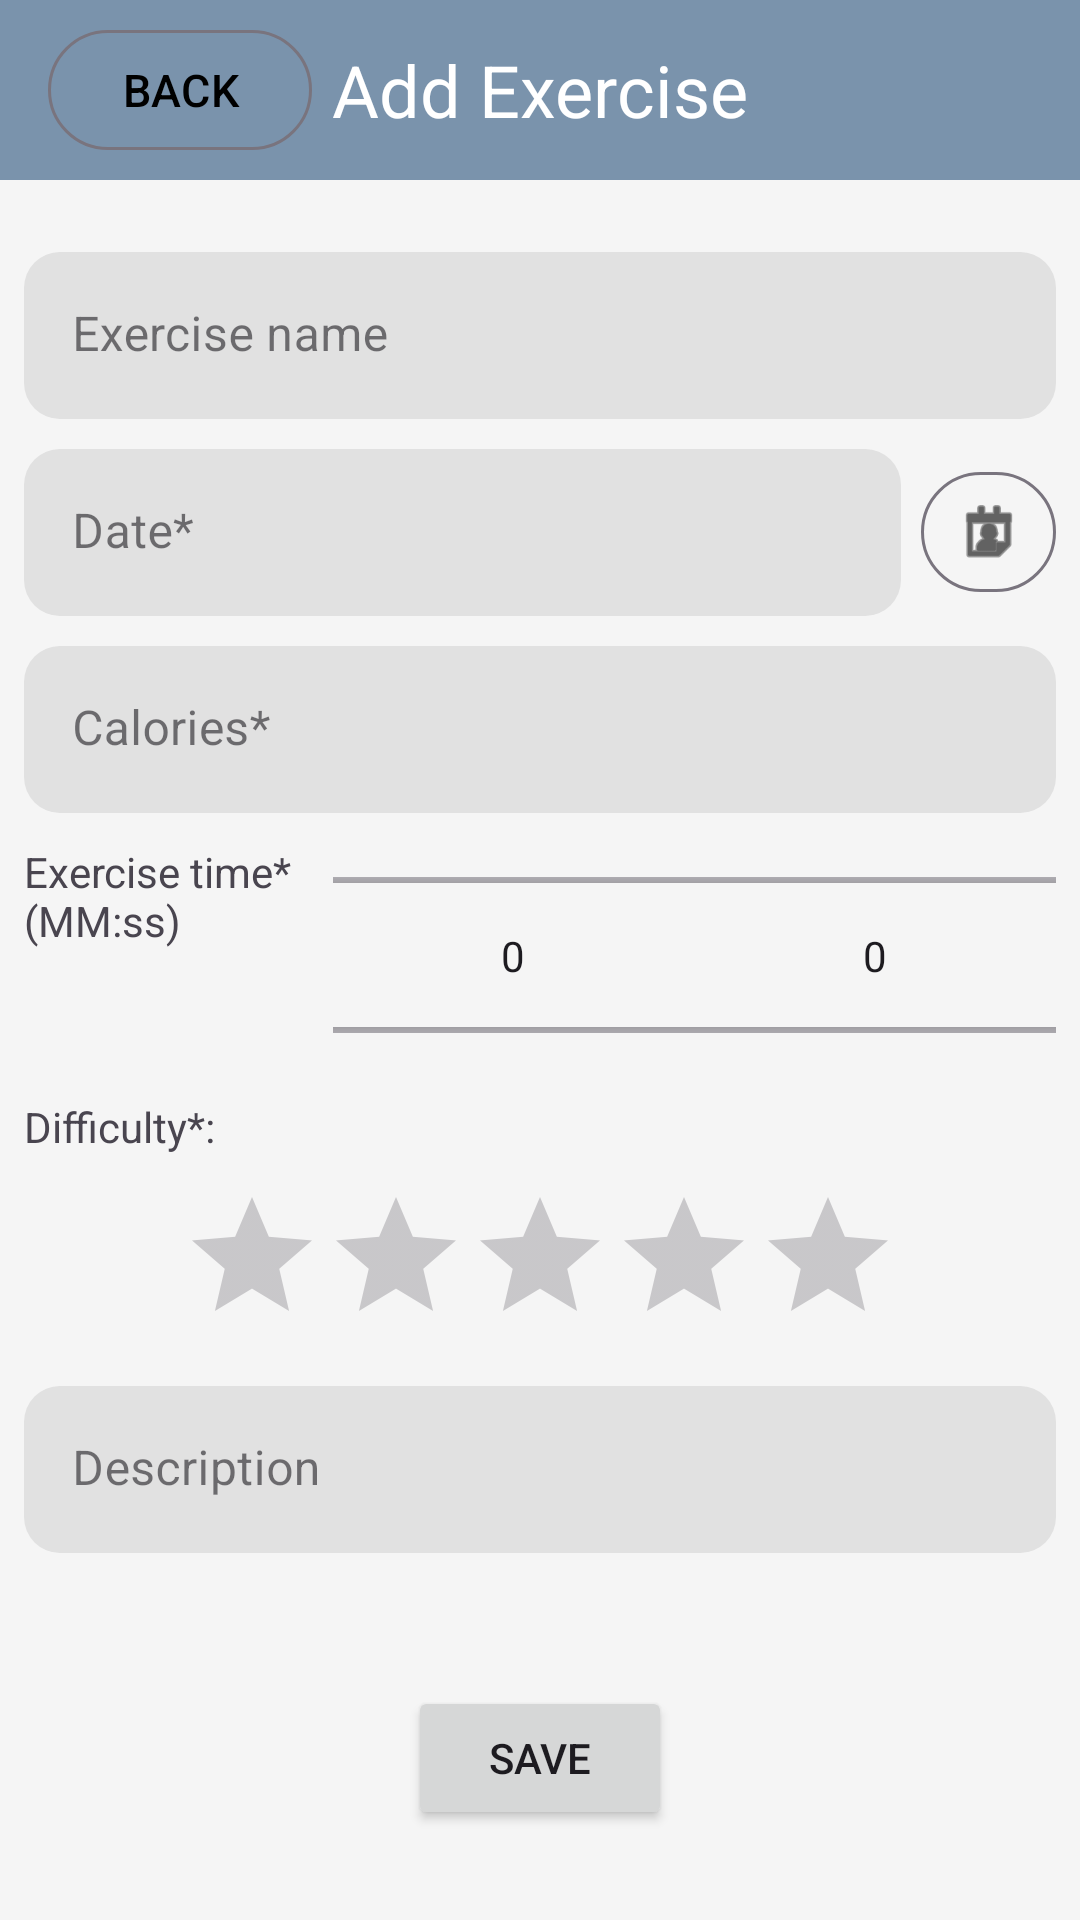

Locate icon controls on the screen. Image size 1080*1920, boxes as (x1, y1, x2, y2).
calendar: (921, 472, 1056, 592)
